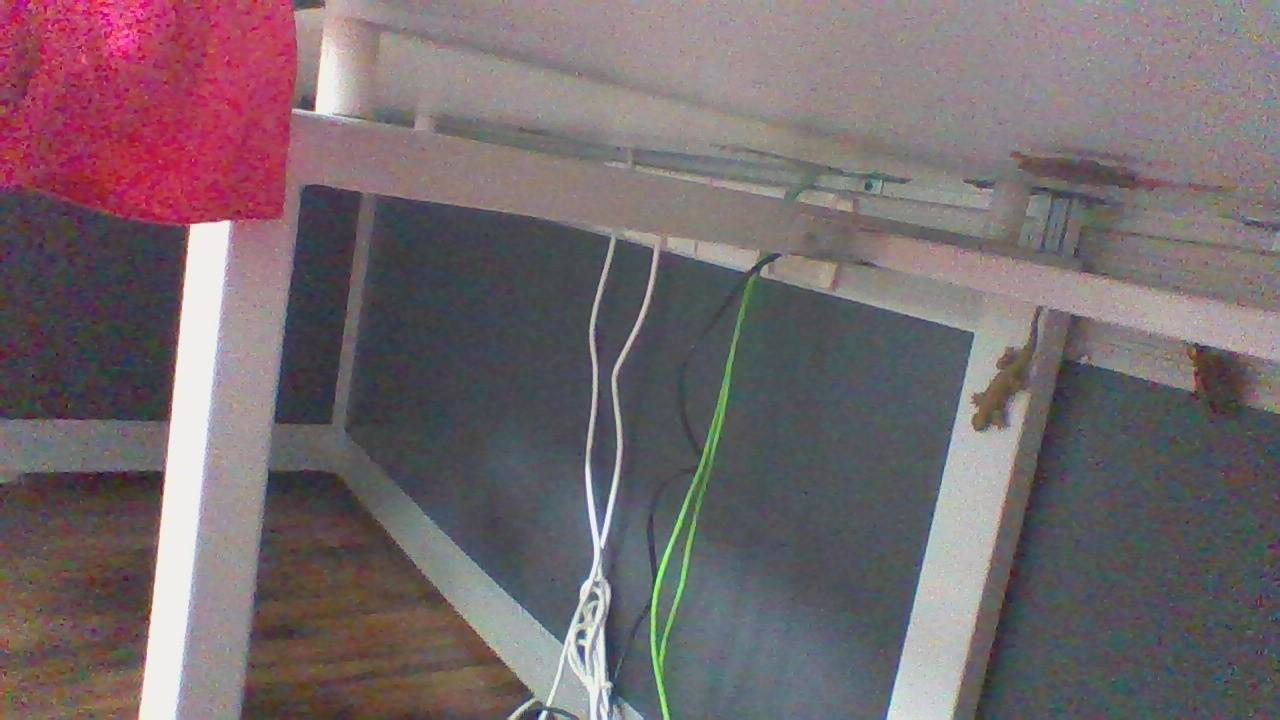cockroach: (1000, 133, 1199, 210), (1182, 337, 1249, 421)
lizard: (972, 306, 1054, 440)
